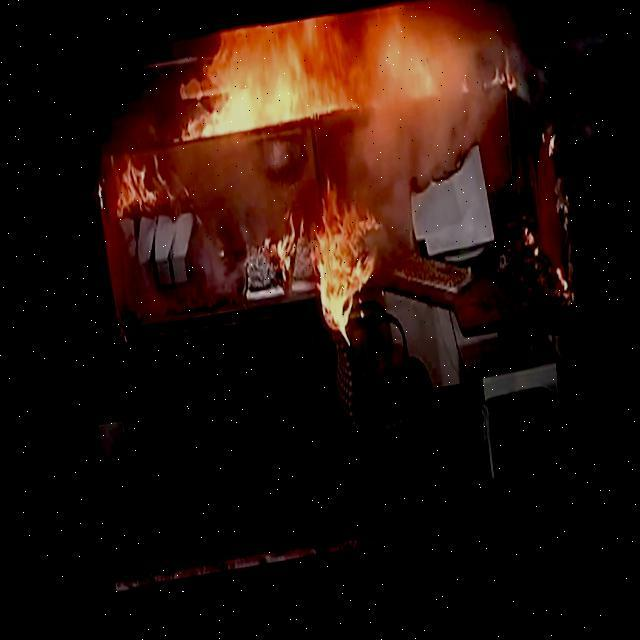Fire: (164, 5, 486, 148), (267, 175, 393, 348), (96, 146, 186, 227)
